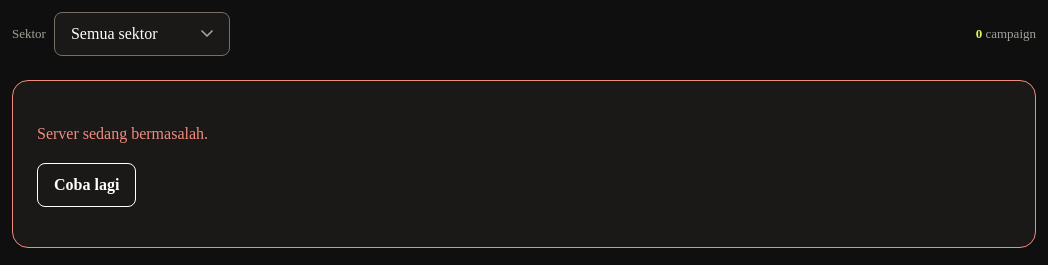
it: CampaignBrowseList: three states, same discipline as ProposalList › shows an error state with a working retry button
Expected: the message shows "Server sedang bermasalah.", top-left (37, 125), bottom-right (208, 142)
Click the button "Coba lagi".
click(87, 185)  # box top-left (37, 163), bottom-right (136, 207)
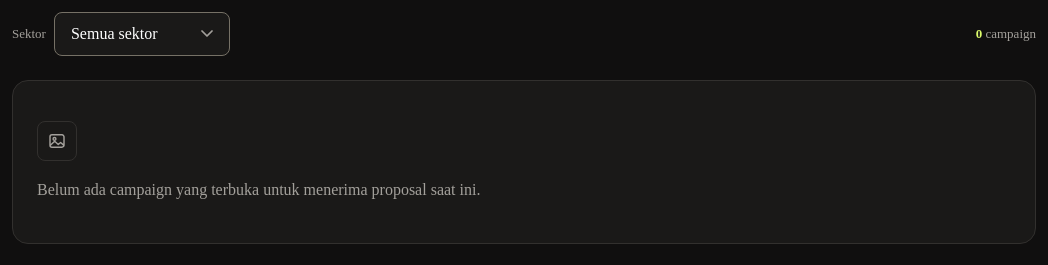
Now the text "Belum ada campaign yang terbuka untuk menerima proposal saat ini." is shown, box top-left (37, 177), bottom-right (480, 203)
